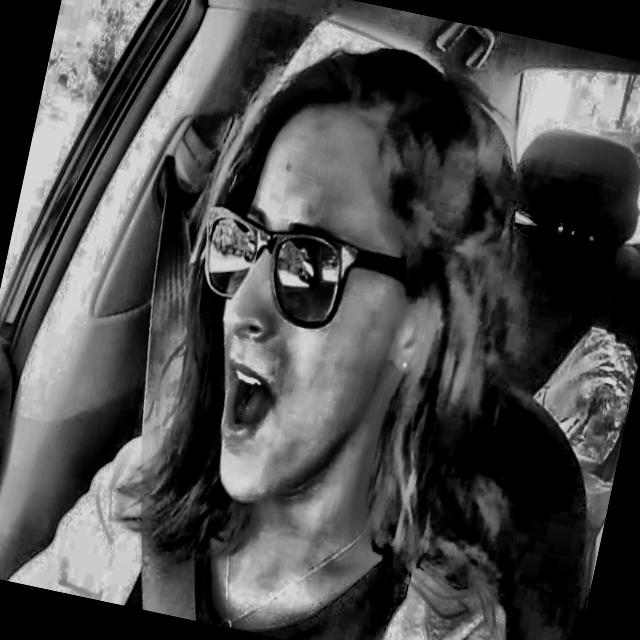open_mouth: (208, 348, 285, 459)
